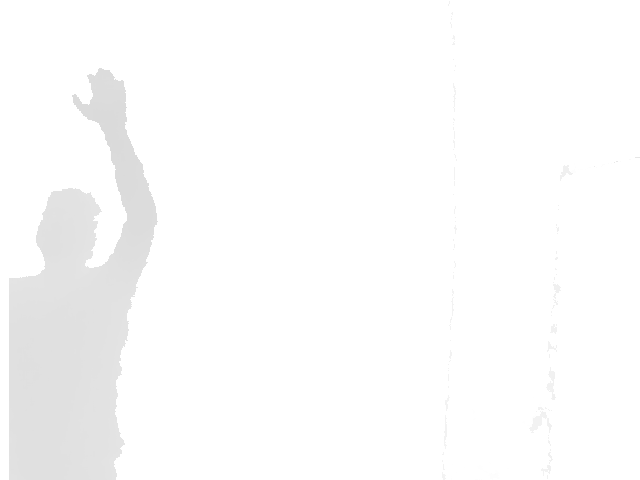hand: (70, 67, 128, 124)
head: (35, 186, 102, 269)
person: (8, 67, 159, 480)
